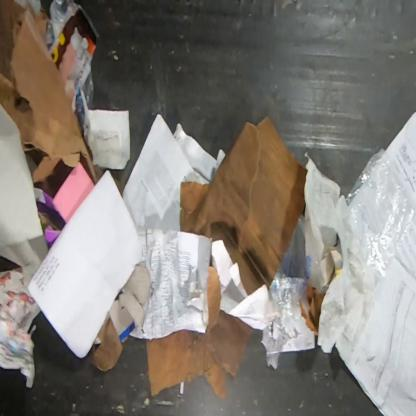cardboard: (179, 115, 308, 296), (0, 0, 98, 185), (146, 265, 253, 400), (51, 162, 95, 224), (90, 316, 123, 372)
soft_plastic: (346, 148, 416, 283), (262, 213, 314, 371), (49, 0, 77, 40), (84, 64, 95, 112)
